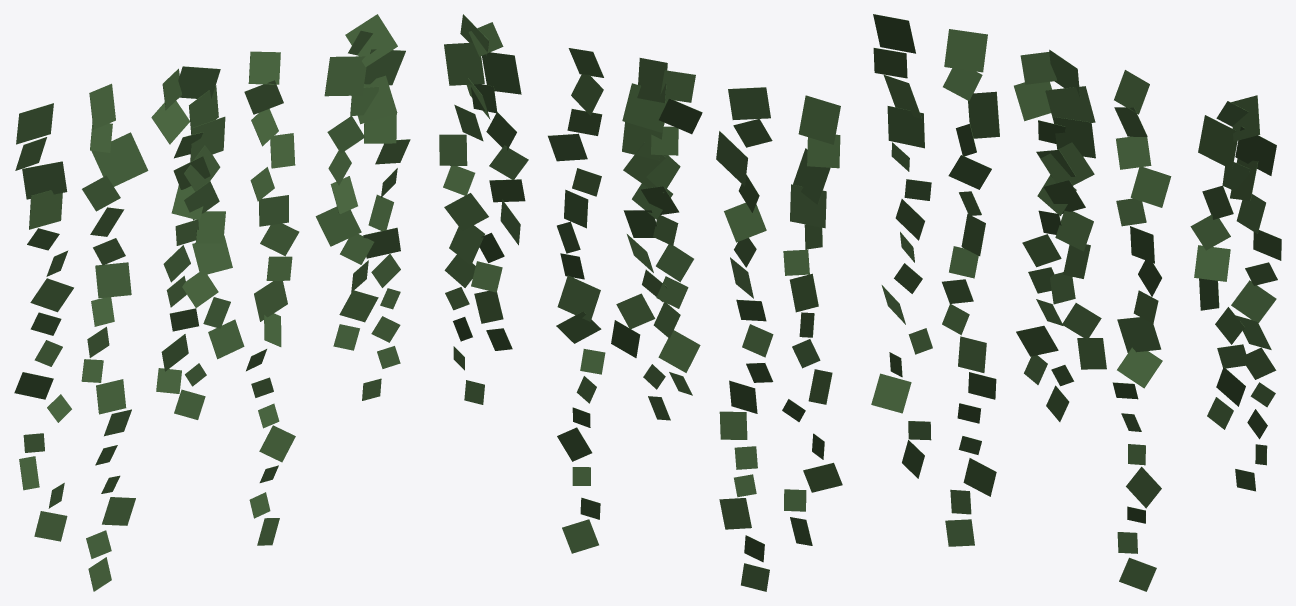
Rendered from ZR_Ivy_Wall.fbx.
3 renders of one model, left to right at view 1: azimuth 30°, elevation 25°; view 2: azimuth 150°, elevation 25°; view 3: azimuth 330°, elevation 25°, orthographic. The views are drawn at different scales.
Parts seen in each view (by area): view 1: ZR_Ivy_Wall; view 2: ZR_Ivy_Wall; view 3: ZR_Ivy_Wall.
Part boxes in pixels (left/top/right/bottom): ZR_Ivy_Wall: left=14, top=14, right=410, bottom=591; ZR_Ivy_Wall: left=439, top=14, right=842, bottom=591; ZR_Ivy_Wall: left=871, top=14, right=1281, bottom=591.
Bounding box in the file's own units: 3.12 × 3.82 × 0.2501.
